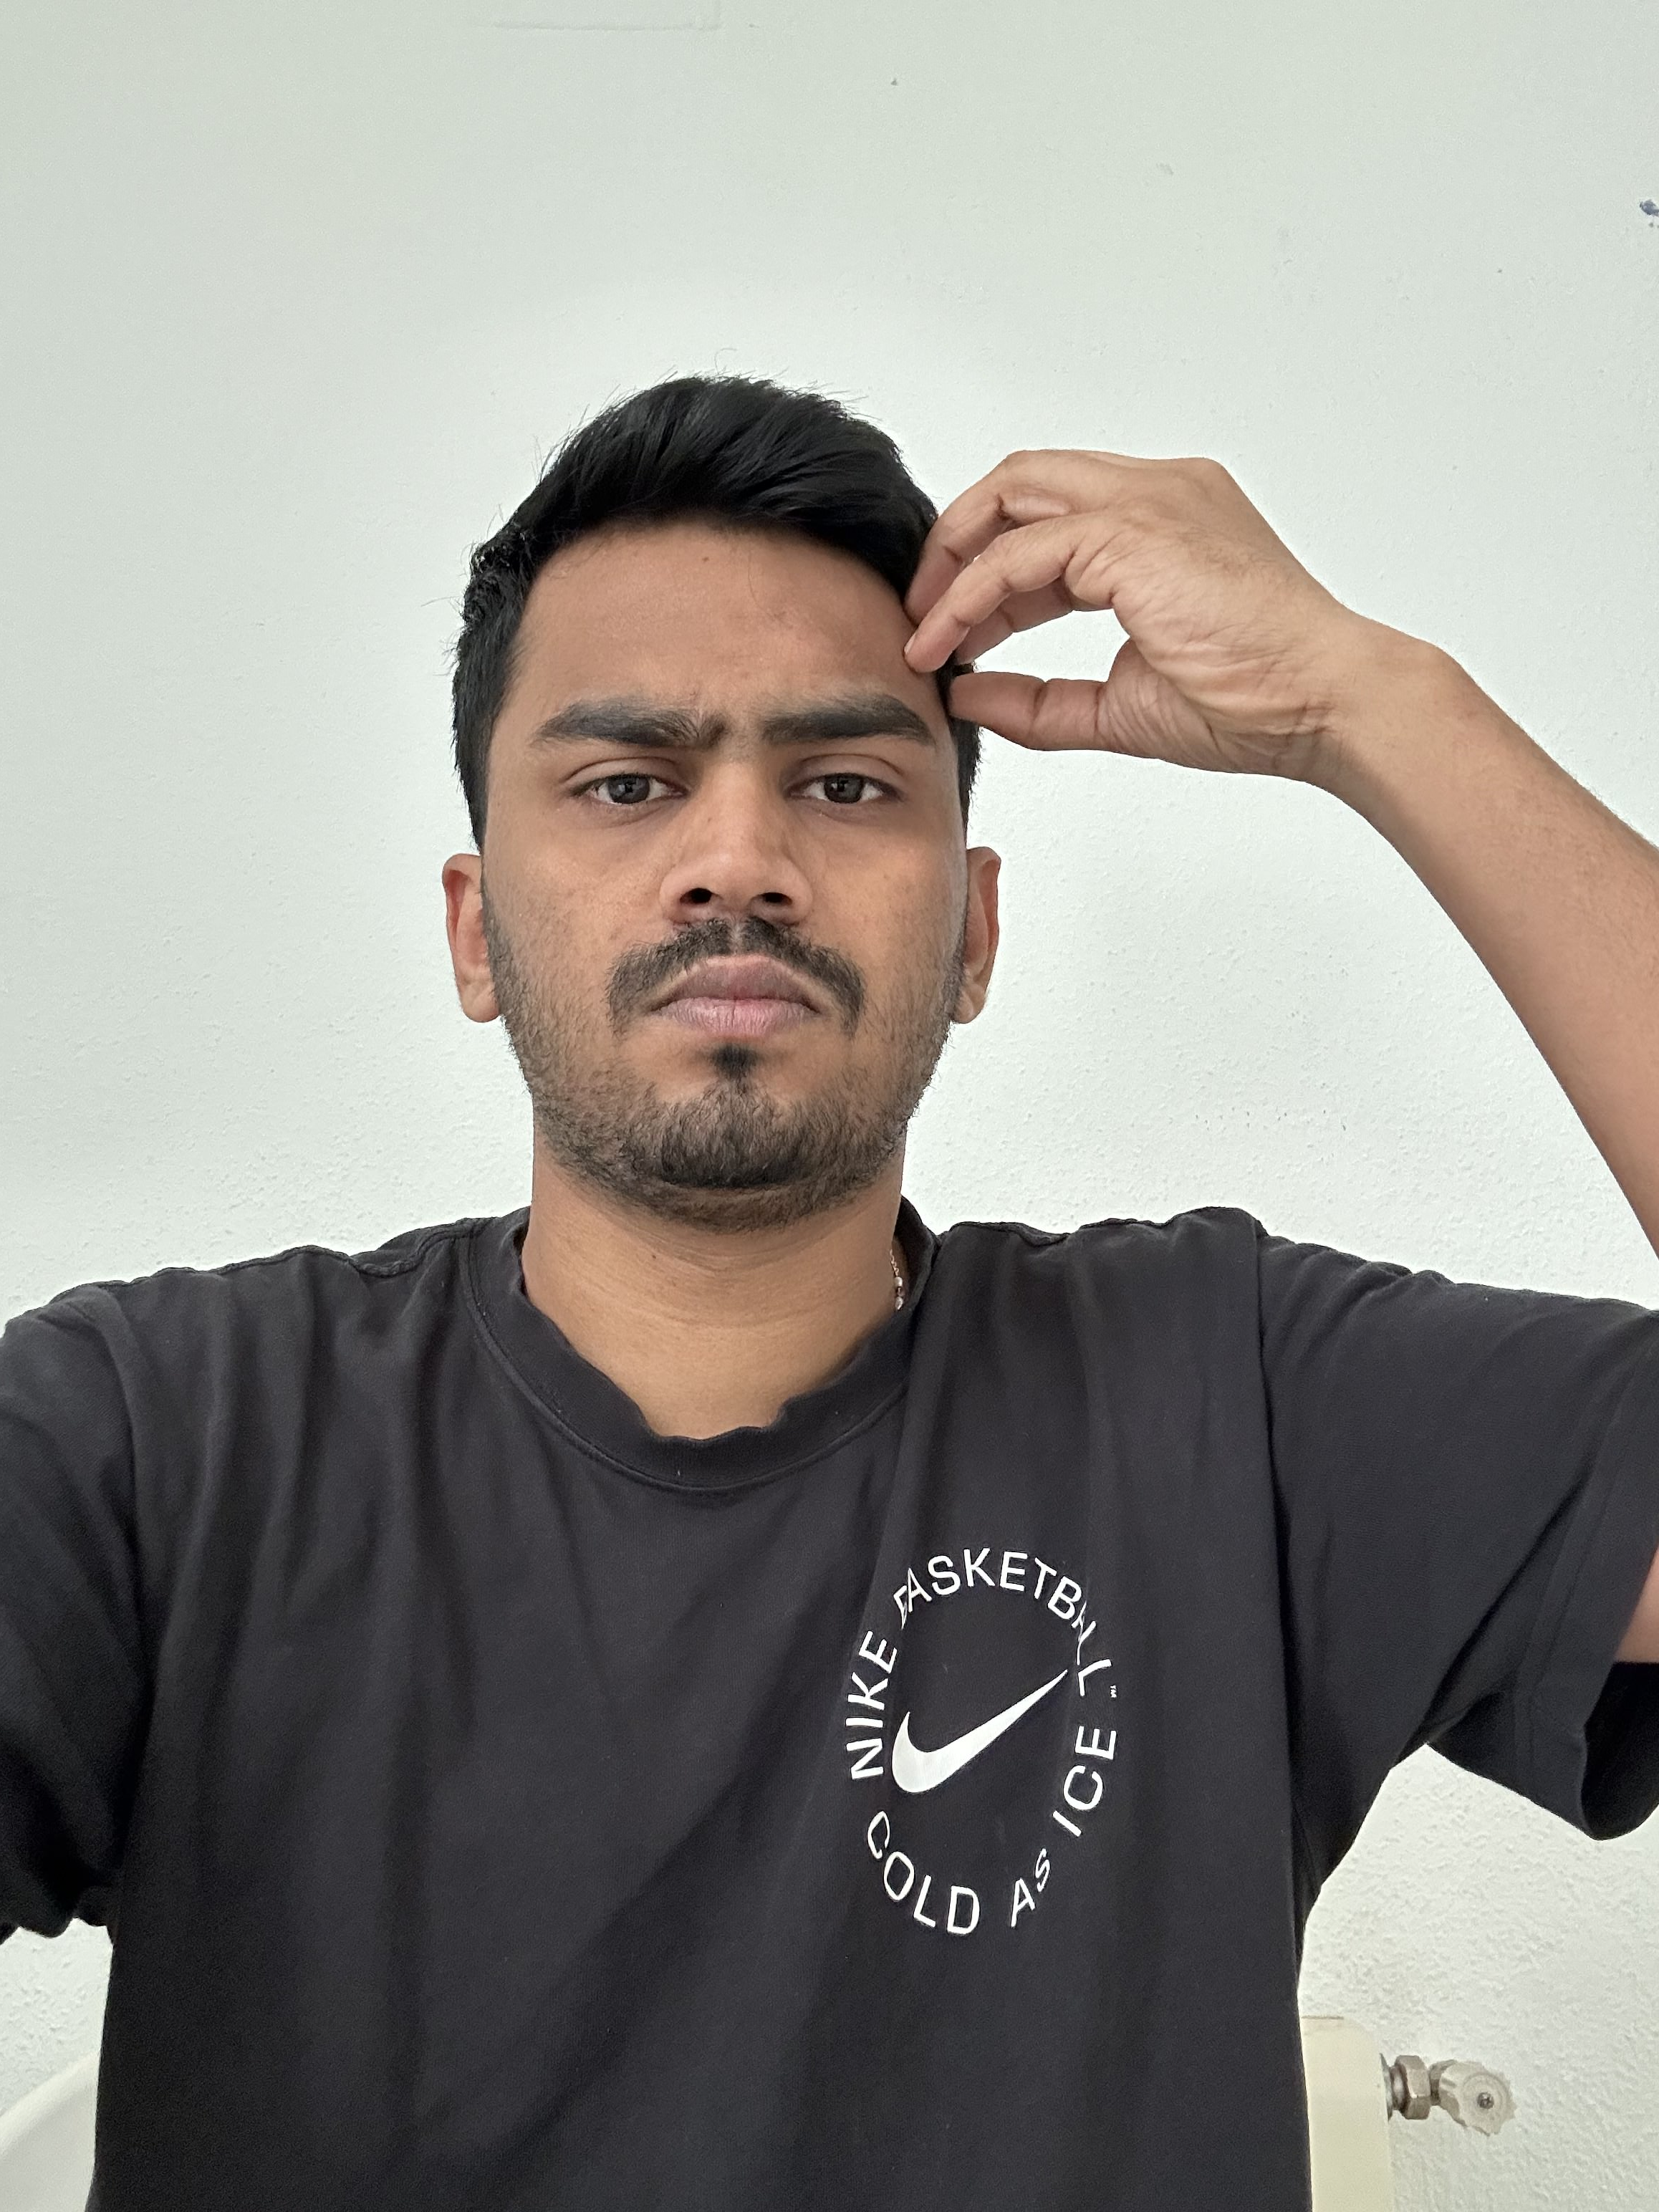brain: (3, 369, 1654, 2203), (838, 1538, 1126, 1942)
